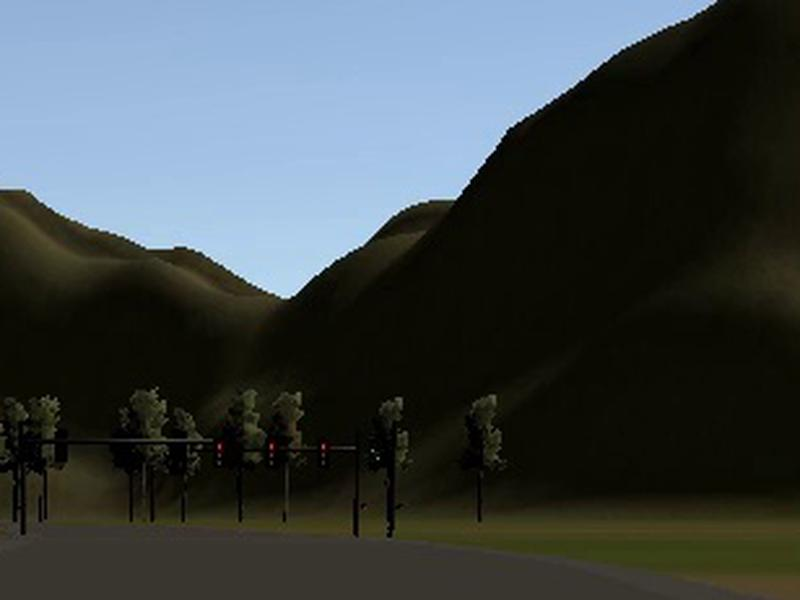Red: (315, 441, 330, 469), (213, 441, 227, 469), (266, 441, 279, 468)
